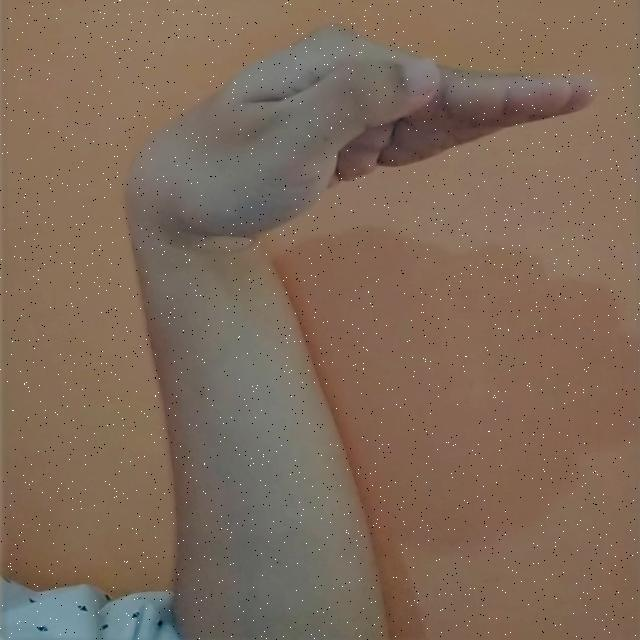Z: (114, 20, 602, 640)
